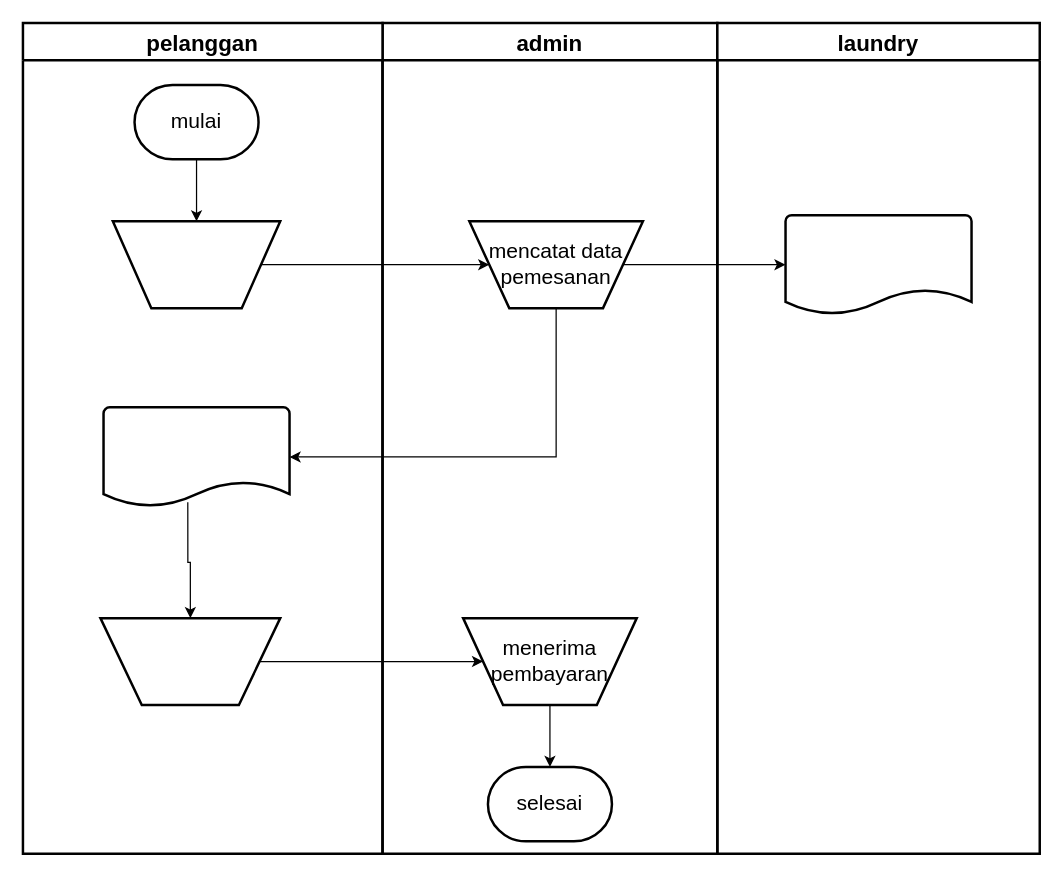
The diagram is 1061 pixels wide and 875 high, and some of its shapes have lost their labels. Each missing label, with the centre of its shape:
"melakukan pembayaran" goes at (x=190, y=661).
"memesan layanan" goes at (x=196, y=264).
"mendapatkan data pemesanan" goes at (x=878, y=264).
"mendapatkan nomor antrian" goes at (x=196, y=456).
